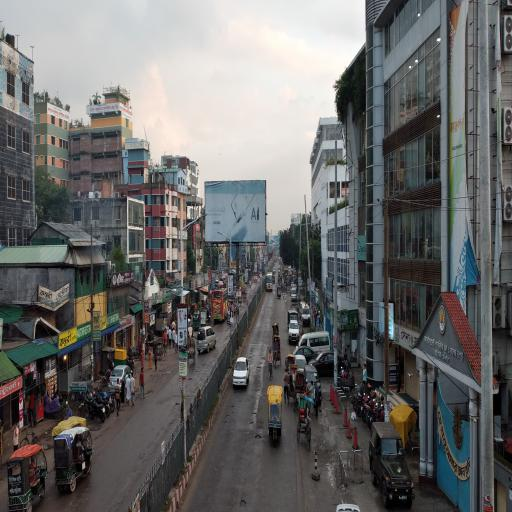ambulance: (302, 304, 311, 326)
army vehicle: (369, 423, 415, 509)
auto rickshaw: (9, 446, 50, 512), (54, 432, 95, 493), (268, 386, 283, 448), (278, 287, 282, 300)
bicycle: (21, 427, 41, 447), (73, 402, 89, 421), (269, 360, 273, 382), (250, 281, 252, 290)
bus: (213, 291, 228, 323), (267, 272, 273, 292), (240, 275, 247, 289)
car: (309, 352, 344, 378), (110, 365, 136, 396), (306, 366, 322, 405), (234, 358, 250, 388), (294, 349, 318, 362), (296, 355, 308, 372)
minivan: (198, 327, 218, 353)
motorbike: (98, 388, 116, 413), (363, 405, 385, 422), (90, 400, 106, 423), (369, 410, 386, 431), (356, 395, 371, 417), (97, 397, 111, 418), (102, 370, 110, 387), (352, 392, 357, 412), (338, 373, 349, 382), (128, 356, 135, 368), (235, 302, 237, 316)
pickup: (289, 310, 301, 345), (274, 276, 276, 284)
rickshaw: (299, 397, 313, 452), (294, 370, 306, 412), (274, 336, 282, 369), (289, 365, 296, 402), (189, 338, 197, 364), (273, 324, 280, 348), (288, 356, 296, 374), (243, 290, 247, 302), (283, 285, 286, 296)
three wheelers (CNG): (194, 314, 201, 329)
van: (297, 333, 332, 353), (292, 288, 298, 302)
